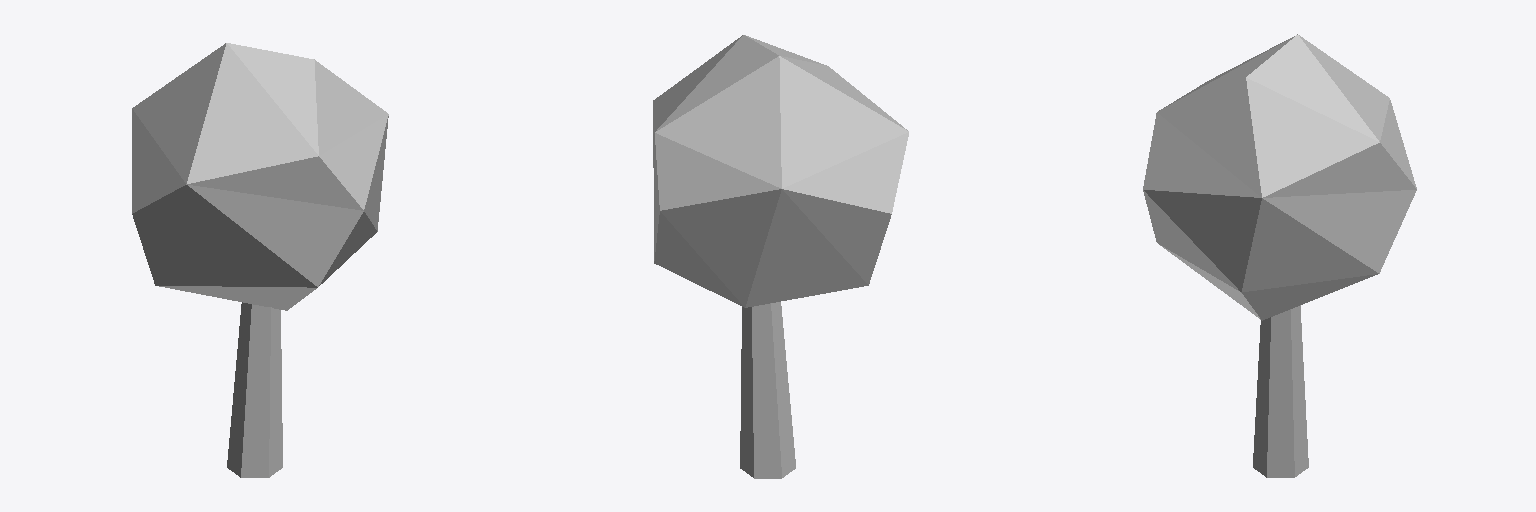
File: tree1_leaves.obj
3 views of the same model, side by side, from view 1: azimuth 30°, elevation 25°; view 2: azimuth 150°, elevation 25°; view 3: azimuth 270°, elevation 25° (orthographic).
Parts seen in each view (by area): view 1: Icosphere, Icosphere.001; view 2: Icosphere, Icosphere.001; view 3: Icosphere, Icosphere.001.
Boxes of the visible parts, box(x1,y1,x2,y2) form: Icosphere: box(132, 43, 388, 310); Icosphere.001: box(227, 302, 282, 477); Icosphere: box(653, 35, 908, 307); Icosphere.001: box(740, 302, 795, 478); Icosphere: box(1143, 34, 1416, 320); Icosphere.001: box(1253, 305, 1308, 477).
Bounding box in the file's own units: 2.07 × 3.38 × 1.99.